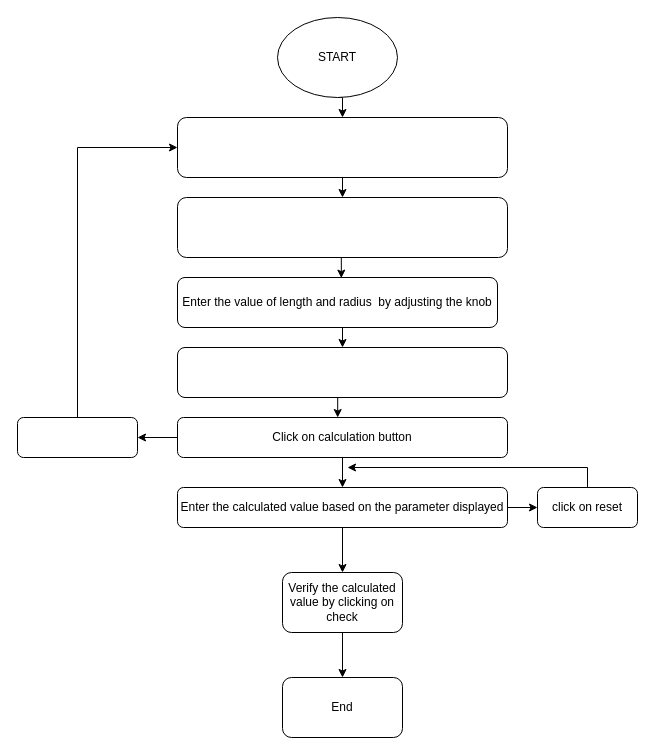
This 655x755 diagram has some shape labels left out. The shapes that lost their labels are listed below. From the top down, each one's box as (x1, y1, x2, y2) in pixels, then its label:
(176, 116, 508, 178): The screen of the simulator will show the experimental setup
(176, 196, 508, 258): Select the type of load either compressive or tensile load
(176, 346, 508, 398): Select the material I.e. stainless steel, cast iron or aluminium
(16, 416, 138, 458): Click on simulation
